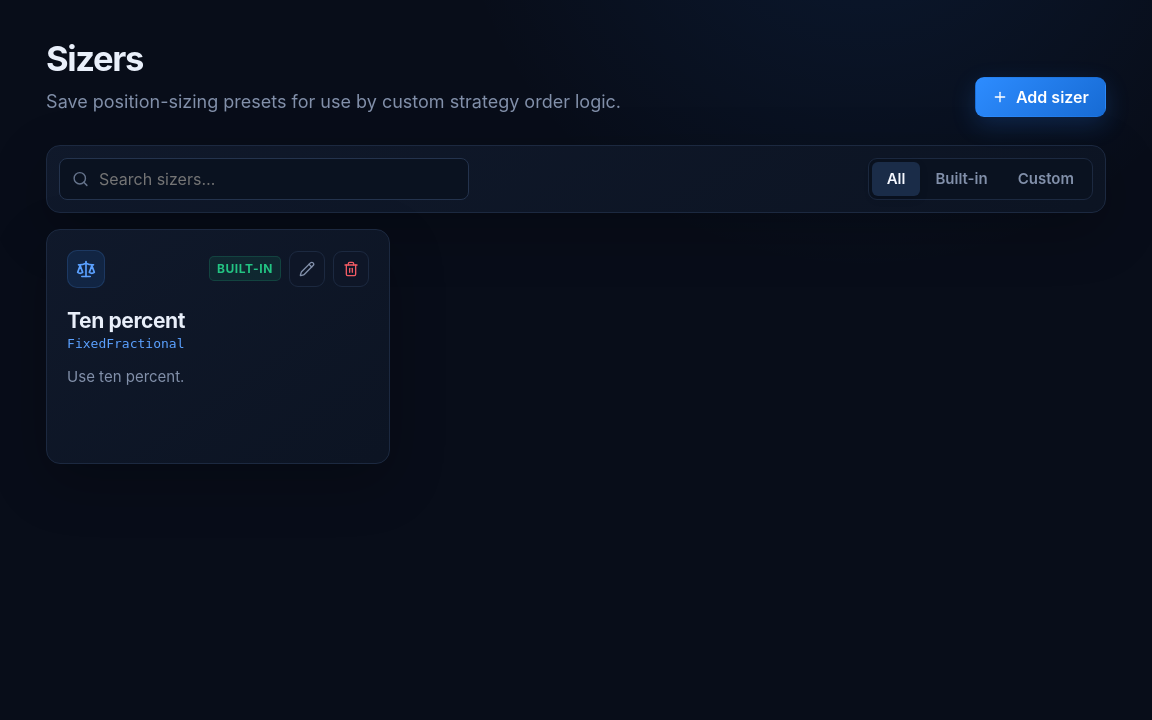
Test: library page › uses the selected built-in sizers class name as the default asset name
The width and height of the screenshot is (1152, 720).
Click the button "Add sizer". click: (1040, 97)
box: [975,77,1106,117]
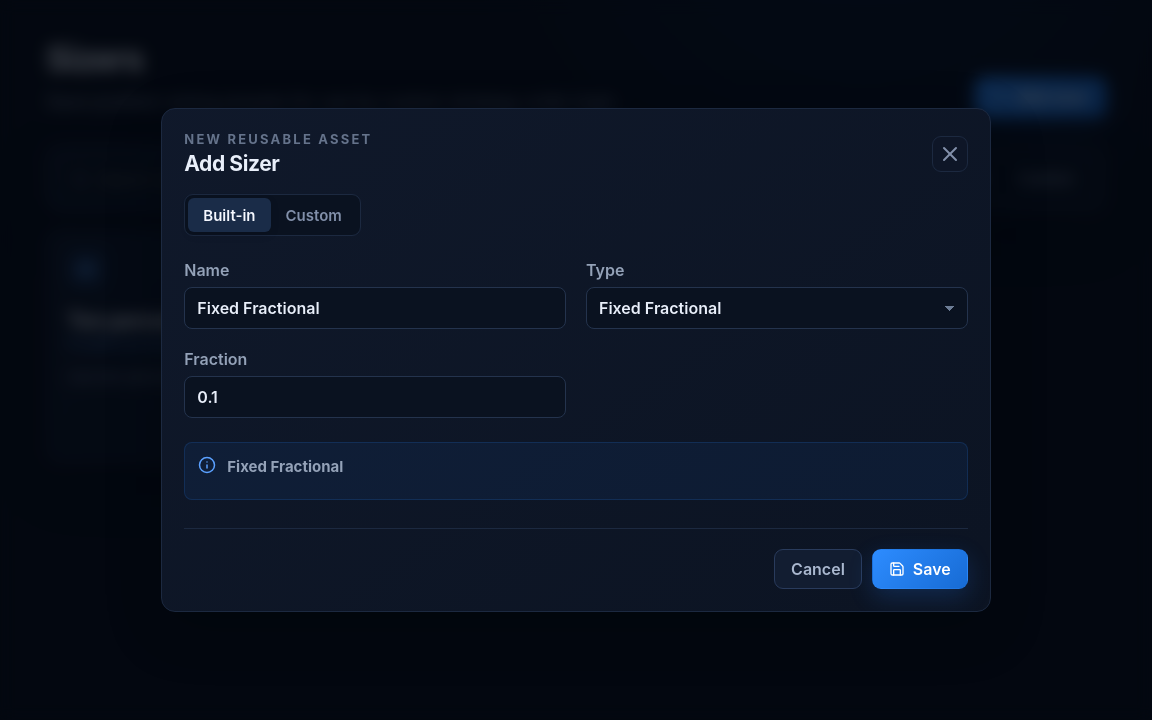
Result: the field labelled "Name" holds "Fixed Fractional" at [184,287,566,329]
